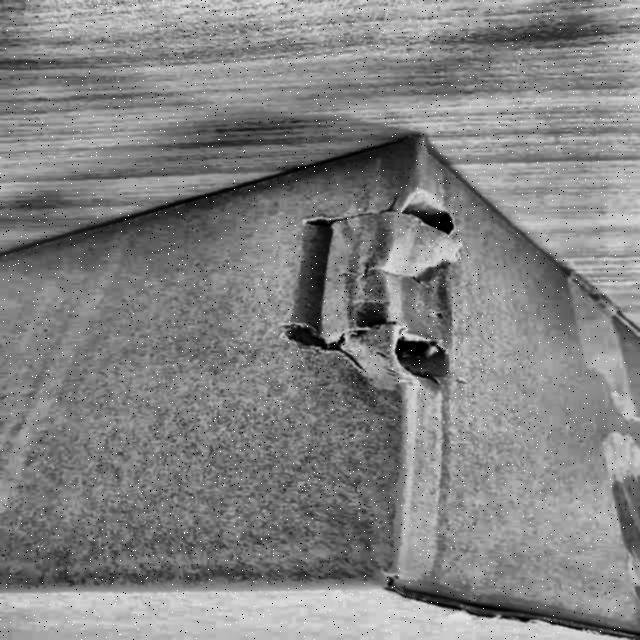box: (0, 117, 639, 640)
hole: (362, 328, 446, 372), (394, 190, 455, 246)
